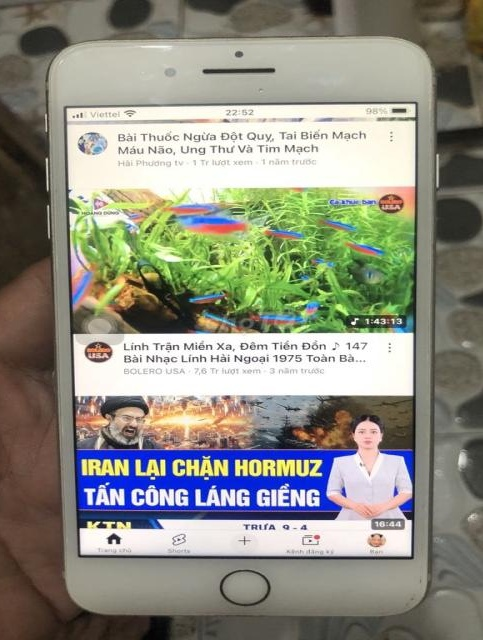scratch: (395, 570, 428, 609)
